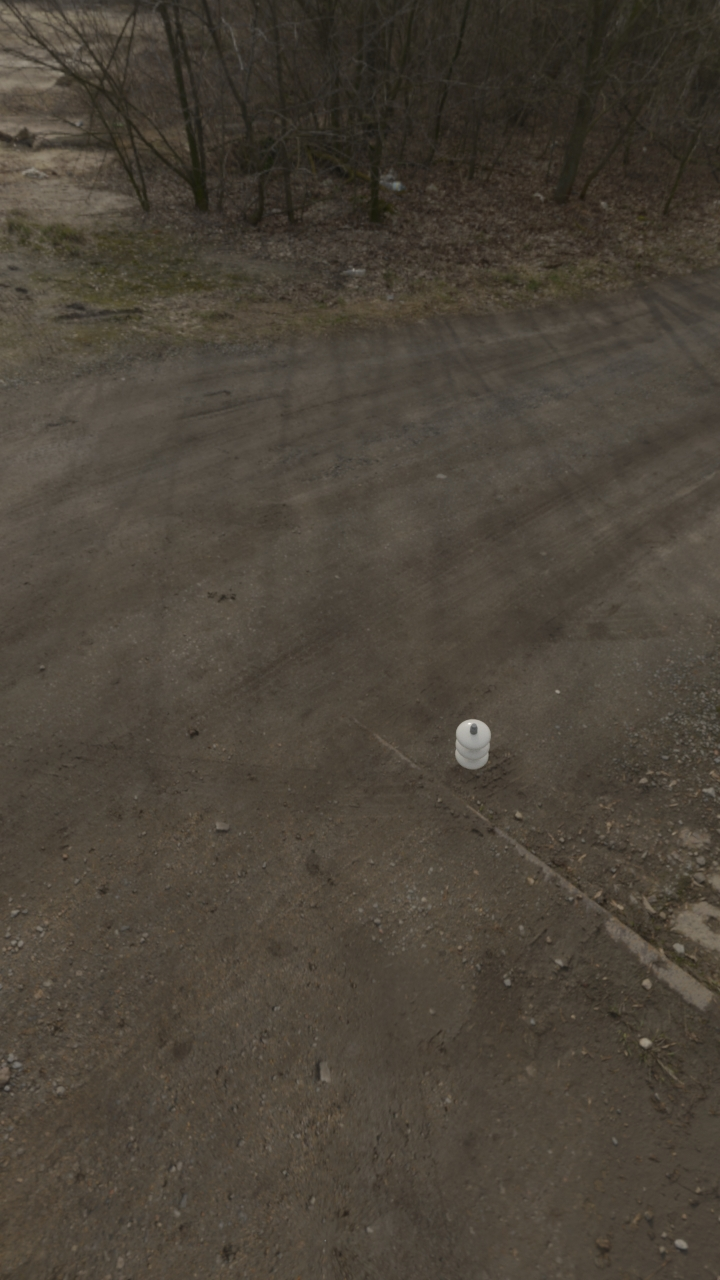ceramicinsulators: (455, 719, 491, 770)
